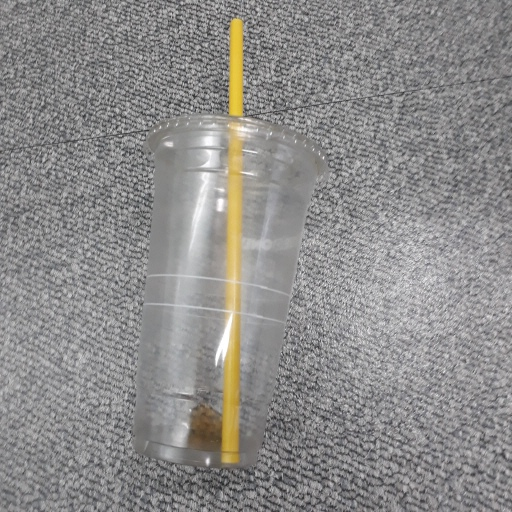Plastic_2: (131, 19, 330, 470)
